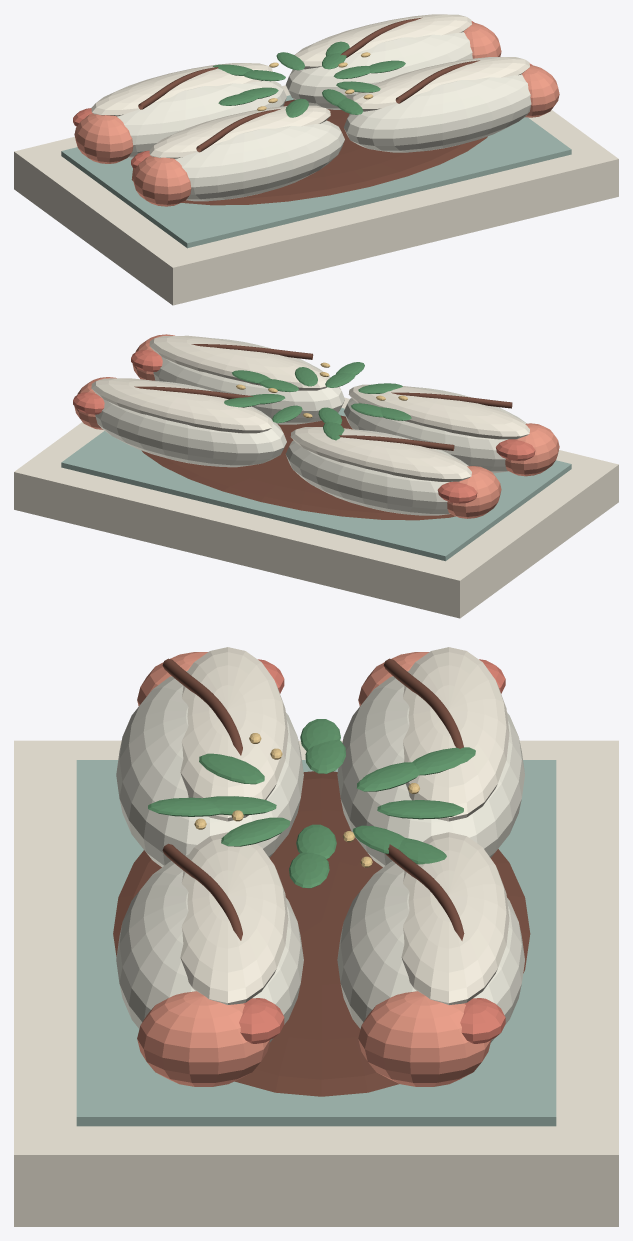
File: bay_shrimp_roll.glb
The picture shows the model from 3 angles, top to bottom: view 1: azimuth 30°, elevation 25°; view 2: azimuth 150°, elevation 25°; view 3: azimuth 270°, elevation 25°; orthographic projection. The views are drawn at different scales.
Visible parts, largest first — view 1: long_serving_plate, long_plate_inset, rice_sheet_0_1, rice_sheet_0_0, dark_soy_lacquer_pool, rice_sheet_1_1, rice_sheet_1_0, rice_flap_0_1, rice_flap_0_0, rice_flap_1_1, rice_flap_1_0, shrimp_cutface_1_0 (+7 smaller); view 2: long_serving_plate, long_plate_inset, rice_sheet_1_1, dark_soy_lacquer_pool, rice_sheet_1_0, rice_flap_1_1, rice_flap_1_0, rice_flap_0_0, rice_flap_0_1, rice_sheet_0_1, rice_sheet_0_0, shrimp_cutface_1_0 (+10 smaller); view 3: long_serving_plate, long_plate_inset, dark_soy_lacquer_pool, rice_flap_0_1, rice_flap_1_1, rice_sheet_0_0, rice_sheet_1_0, rice_flap_1_0, rice_flap_0_0, rice_sheet_1_1, rice_sheet_0_1, shrimp_cutface_0_1 (+22 smaller).
Part boxes in pixels (x1,y1,x2,y2): long_serving_plate: (14,85,618,305); long_plate_inset: (61,95,571,248); rice_sheet_0_1: (344,74,531,152); rice_sheet_0_0: (175,120,344,201); dark_soy_lacquer_pool: (131,99,487,205); rice_sheet_1_1: (286,32,472,109); rice_sheet_1_0: (117,80,286,158); rice_flap_0_1: (351,57,529,111); rice_flap_0_0: (149,105,330,158); rice_flap_1_1: (294,14,471,69); rice_flap_1_0: (91,63,272,116); shrimp_cutface_1_0: (74,113,133,163); long_serving_plate: (14,397,618,618); long_plate_inset: (61,408,571,561); rice_sheet_1_1: (95,380,286,467); dark_soy_lacquer_pool: (141,415,455,520); rice_sheet_1_0: (285,429,468,515); rice_flap_1_1: (91,378,272,433); rice_flap_1_0: (290,427,471,481); rice_flap_0_0: (348,384,529,439); rice_flap_0_1: (149,335,328,390); rice_sheet_0_1: (153,338,344,424); rice_sheet_0_0: (343,386,526,473); shrimp_cutface_1_0: (447,466,501,518); long_serving_plate: (14,740,618,1226); long_plate_inset: (76,760,556,1126); dark_soy_lacquer_pool: (113,771,530,1096); rice_flap_0_1: (180,832,288,1004); rice_flap_1_1: (401,832,509,1004); rice_sheet_0_0: (116,671,303,867); rice_sheet_1_0: (337,671,524,867); rice_flap_1_0: (403,647,509,821); rice_flap_0_0: (180,647,288,821); rice_sheet_1_1: (337,861,524,1042); rice_sheet_0_1: (116,854,303,1042); shrimp_cutface_0_1: (137,991,269,1086).
Bounding box in the file's own units: 0.94 × 0.2356 × 0.58.
